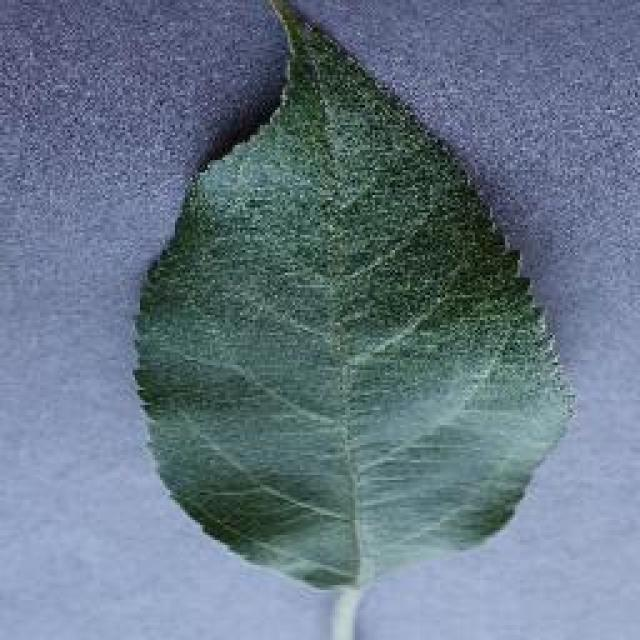apple healthy: (128, 0, 578, 598)
